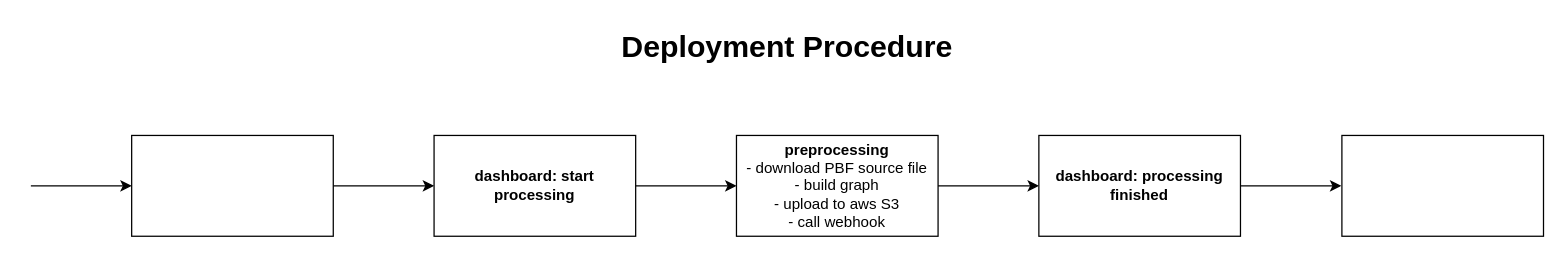
This 1566x258 diagram has some shape labels left out. Each missing label, with the centre of its shape:
button click in frontend: point (231, 185)
server running - download routing graph from aws S3 - start server: point (1442, 185)
